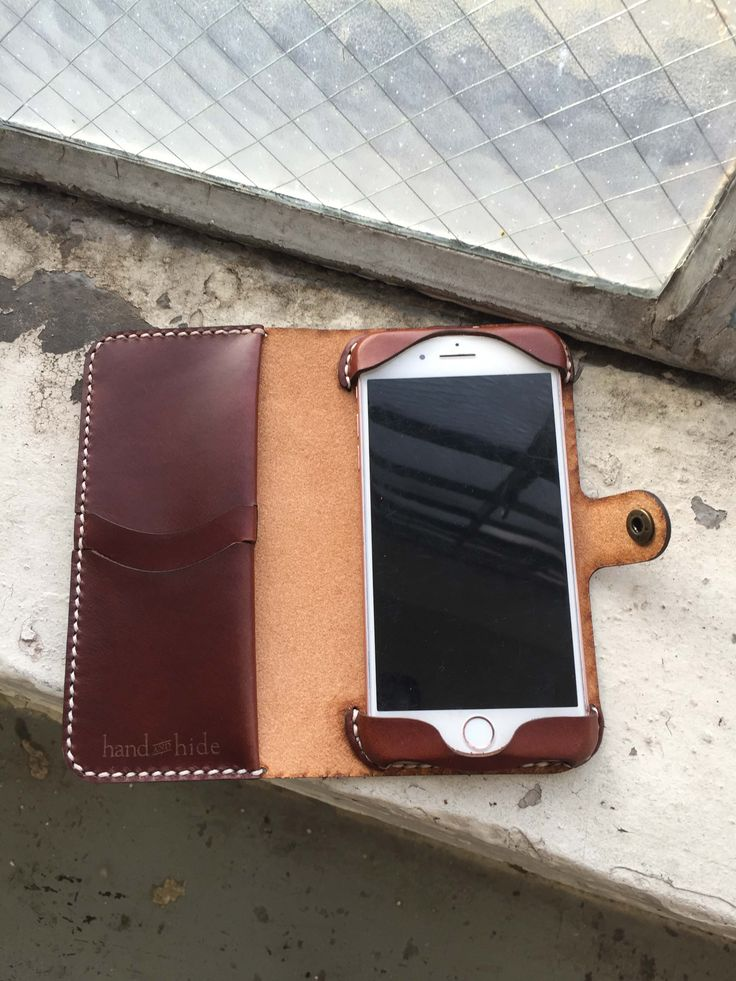cuero: (60, 324, 606, 779)
